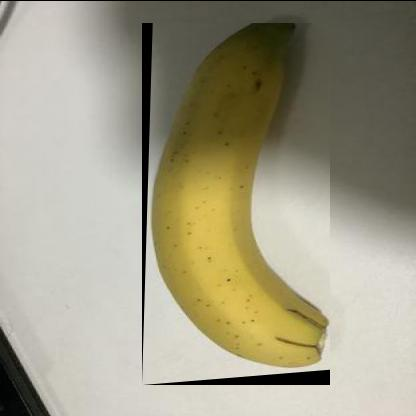bananarotation: (142, 21, 331, 384)
